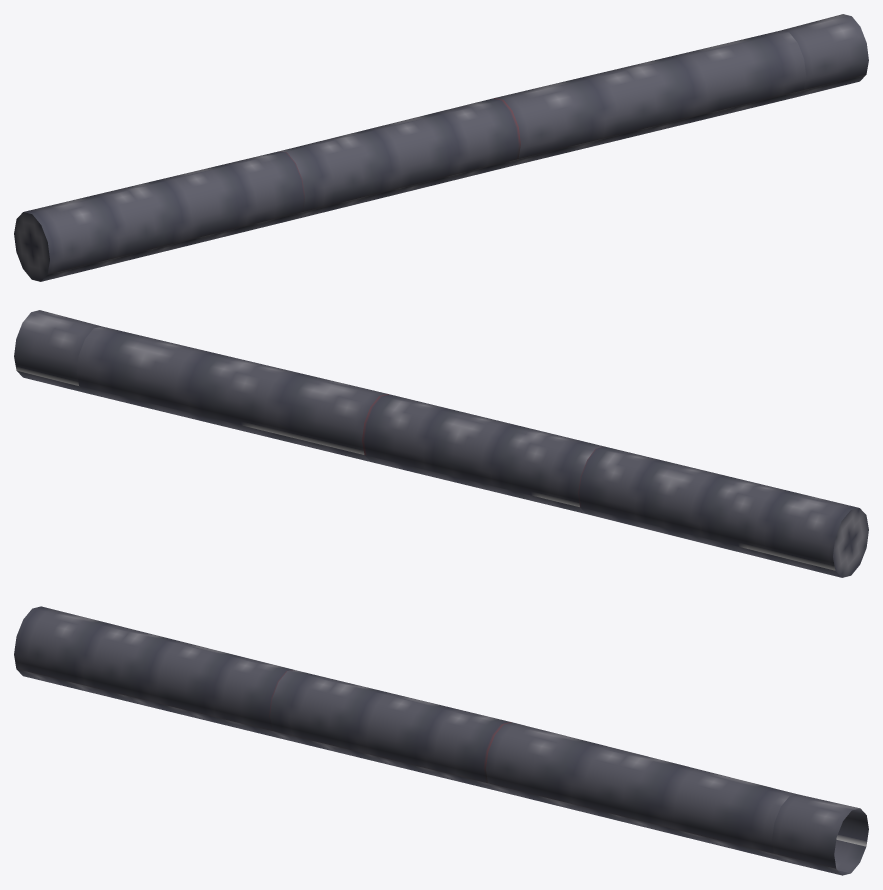
The model's file is Roof_Centre.fbx.
3 views of the same model, one above another, from view 1: azimuth 30°, elevation 25°; view 2: azimuth 150°, elevation 25°; view 3: azimuth 330°, elevation 25° (orthographic).
Parts seen in each view (by area): view 1: RoofCentre; view 2: RoofCentre; view 3: RoofCentre.
Part boxes in pixels (<box>): RoofCentre: <box>14,14,868,281</box>; RoofCentre: <box>14,310,868,577</box>; RoofCentre: <box>14,606,868,875</box>.
Bounding box in the file's own units: 300 × 22.88 × 22.88.
